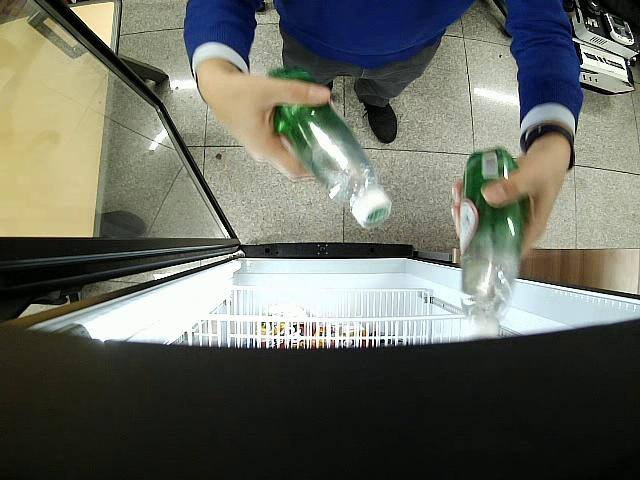00_hand: (450, 143, 570, 265), (194, 77, 332, 178)
18_trevi: (266, 71, 392, 228), (461, 149, 522, 338)
